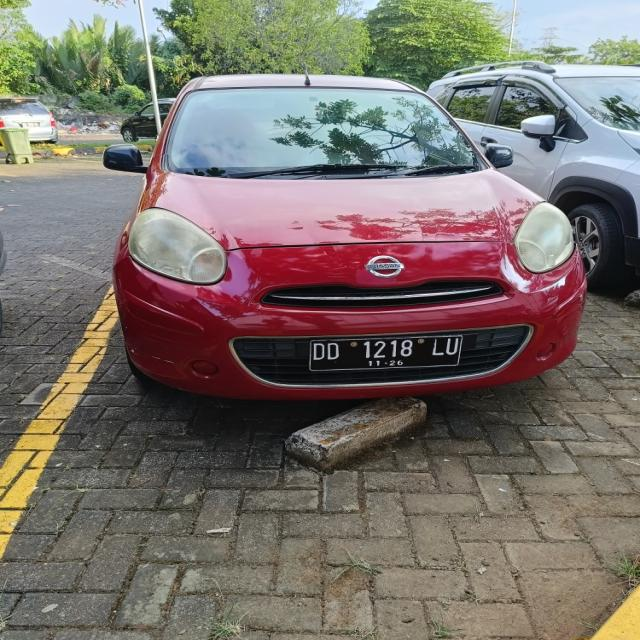plates: (305, 323, 472, 387)
